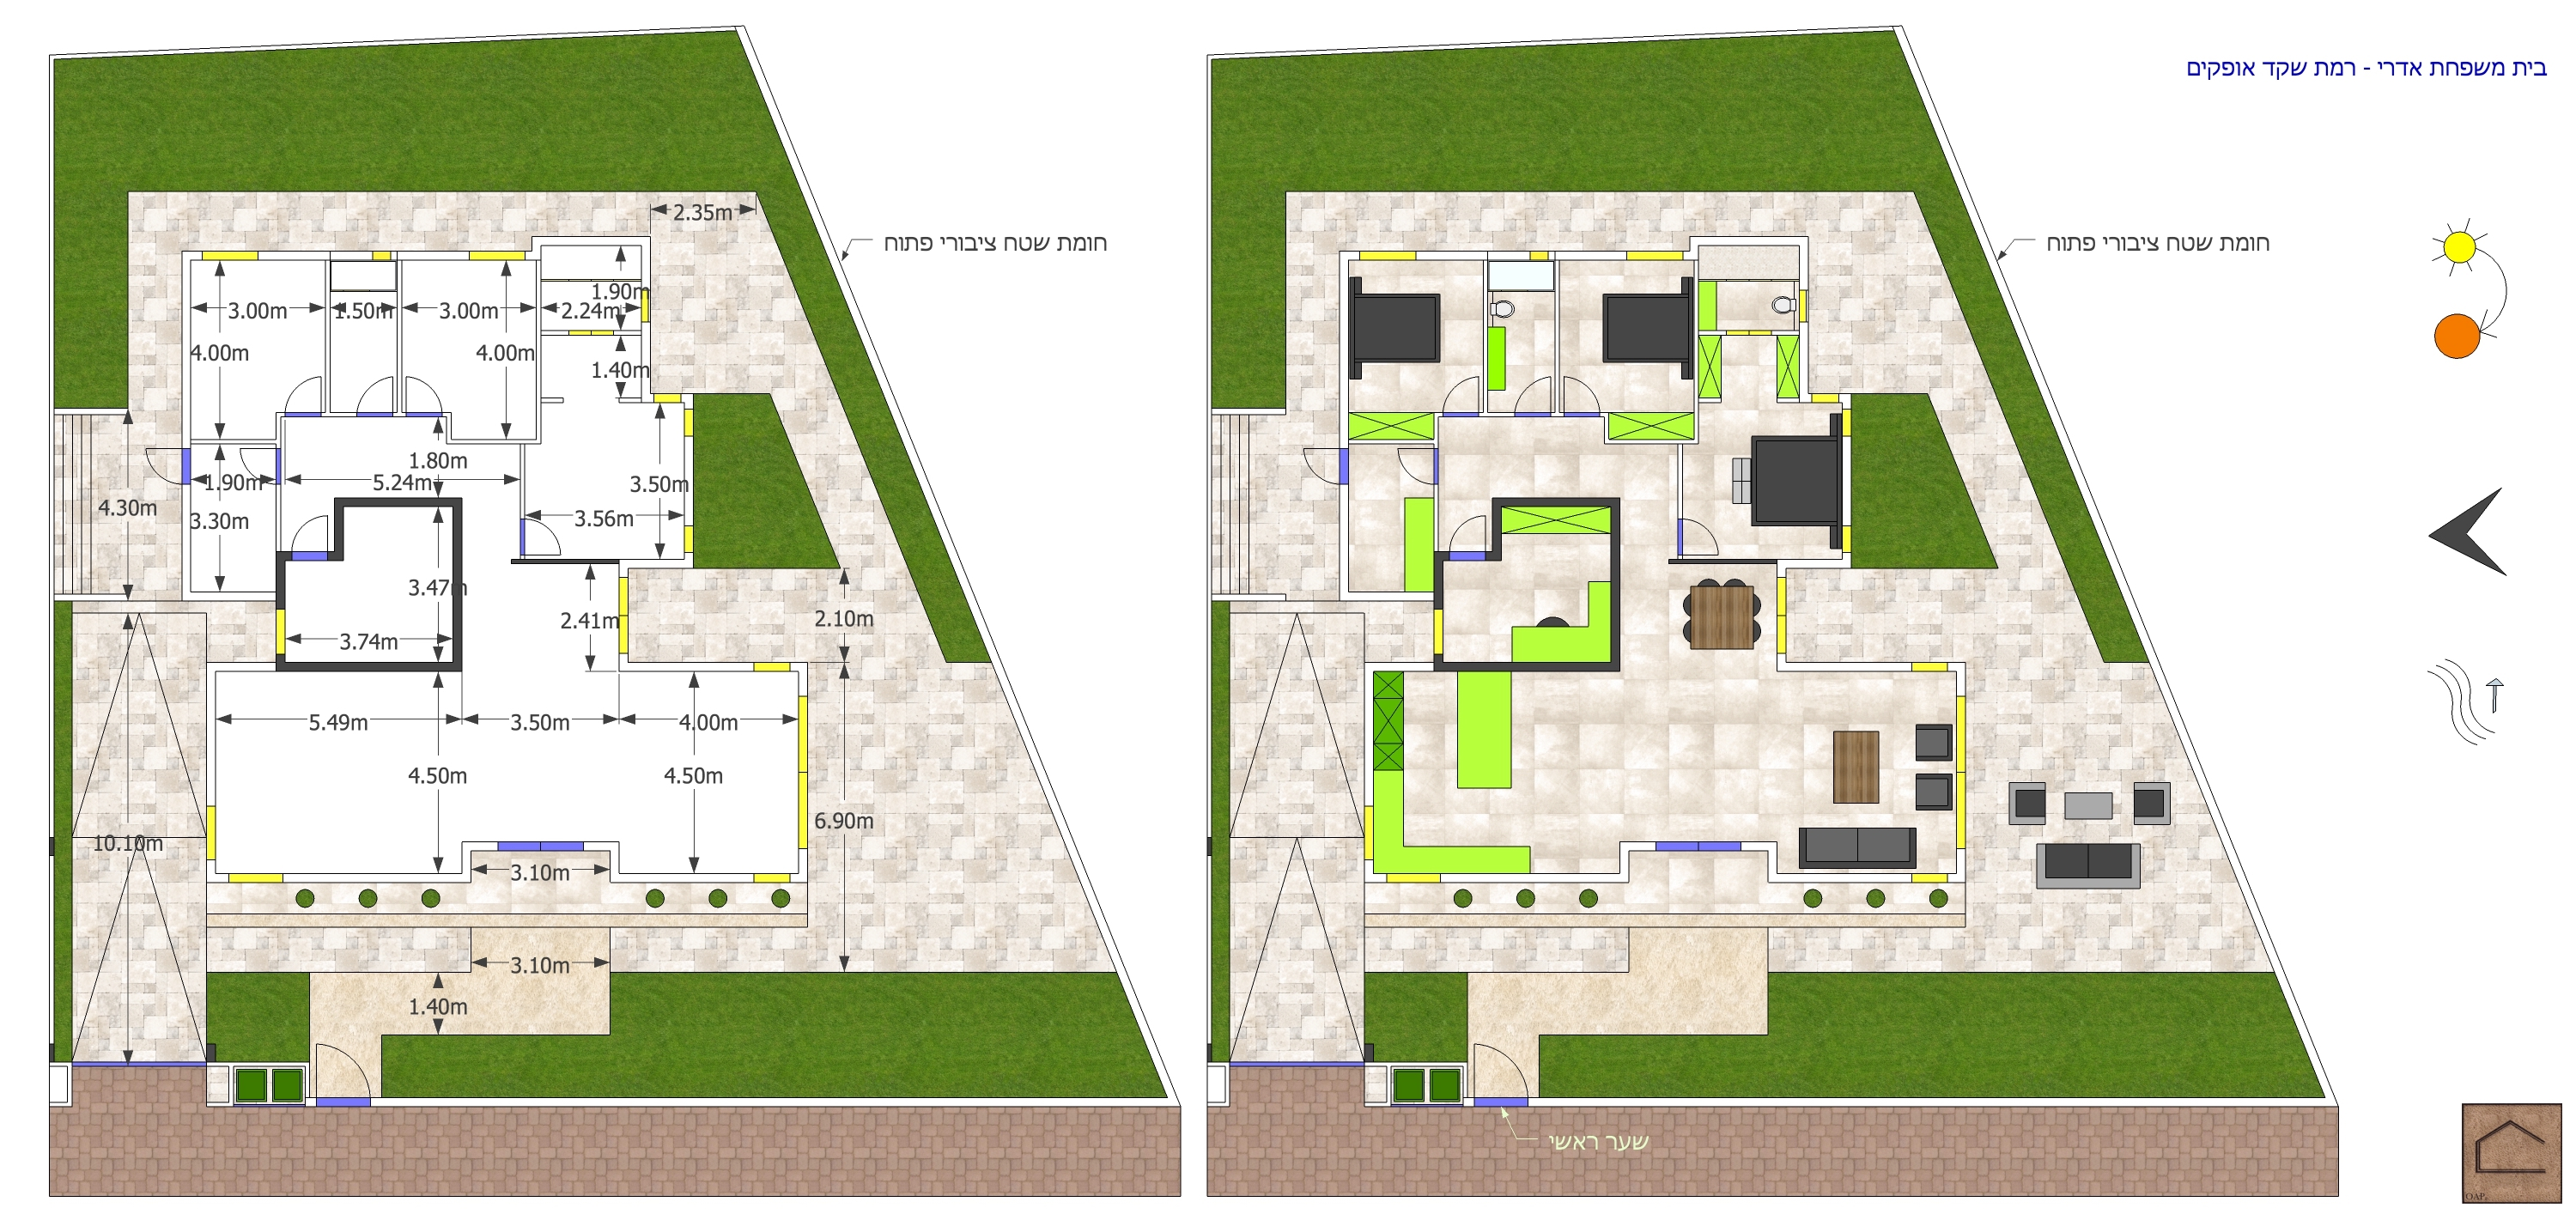door: (314, 1039, 371, 1094), (283, 369, 320, 409), (404, 371, 445, 407), (355, 373, 396, 407), (291, 514, 330, 547)
wall: (54, 603, 71, 1059)
